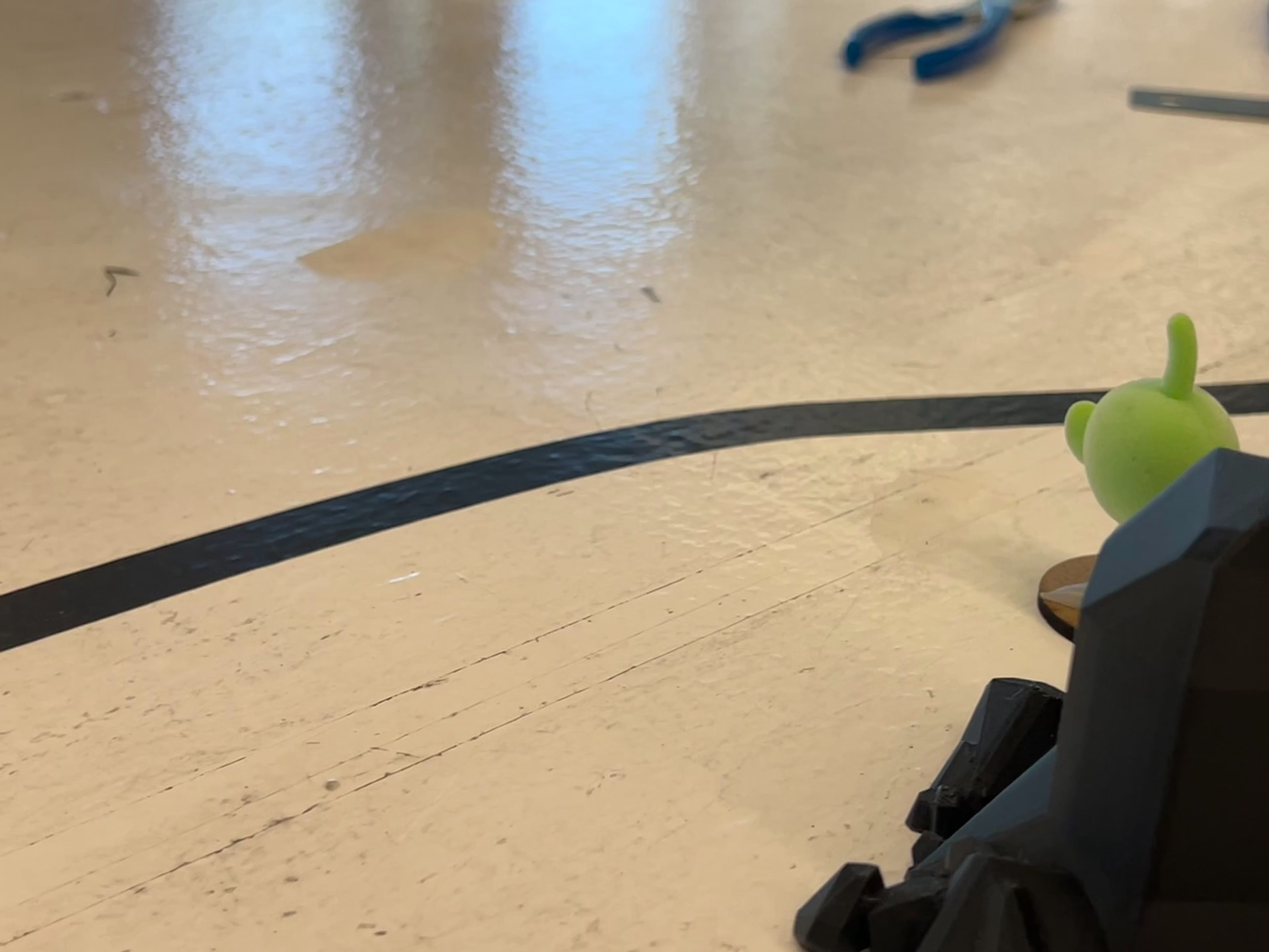teletubby: (1065, 315, 1239, 523)
